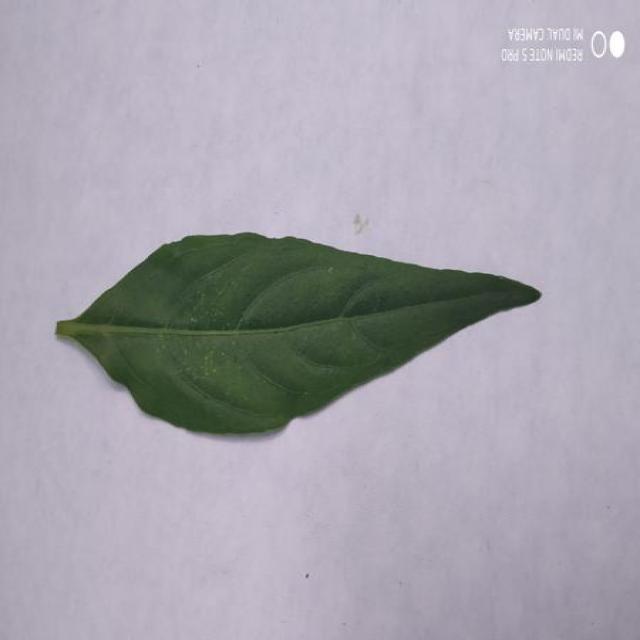Nelavembu: (57, 232, 540, 433)
